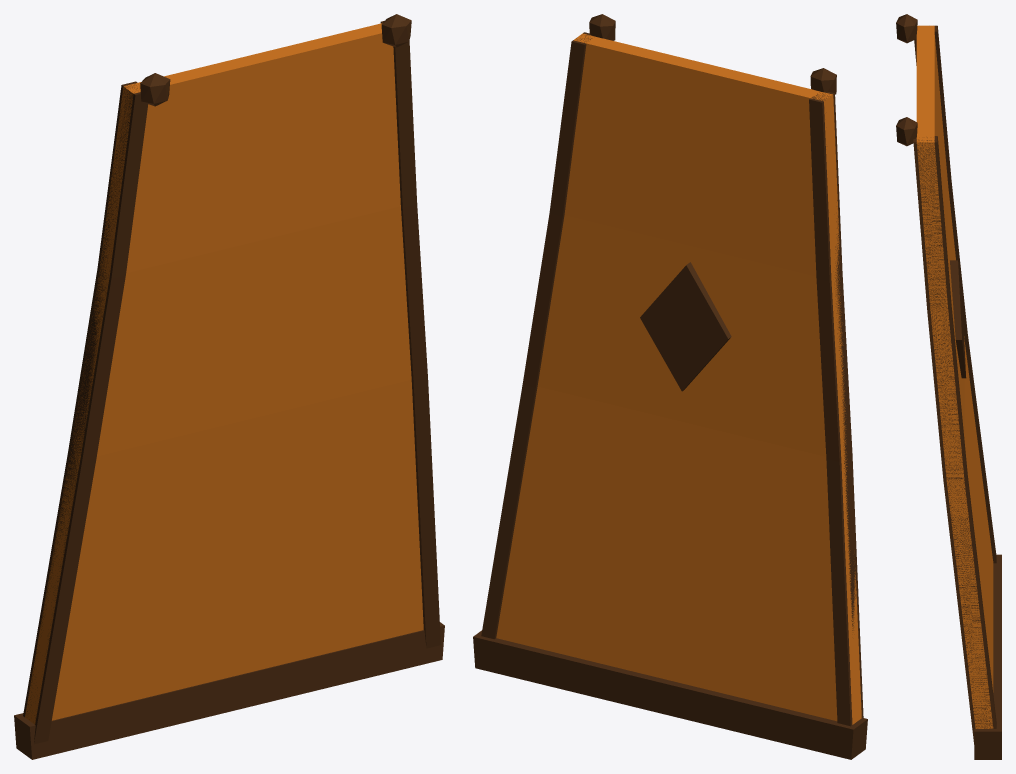
The model's file is gear_cape_strength.glb.
3 renders of one model, left to right at view 1: azimuth 30°, elevation 25°; view 2: azimuth 150°, elevation 25°; view 3: azimuth 270°, elevation 25°, orthographic. The views are drawn at different scales.
Parts seen in each view (by area): view 1: gear_cape_strength; view 2: gear_cape_strength; view 3: gear_cape_strength.
Part boxes in pixels (box(x1,y1,x2,y2)): gear_cape_strength: box(14, 14, 444, 759); gear_cape_strength: box(473, 14, 867, 759); gear_cape_strength: box(896, 14, 1001, 759).
Size of the model in its own units: 0.516 by 0.825 by 0.1304.
